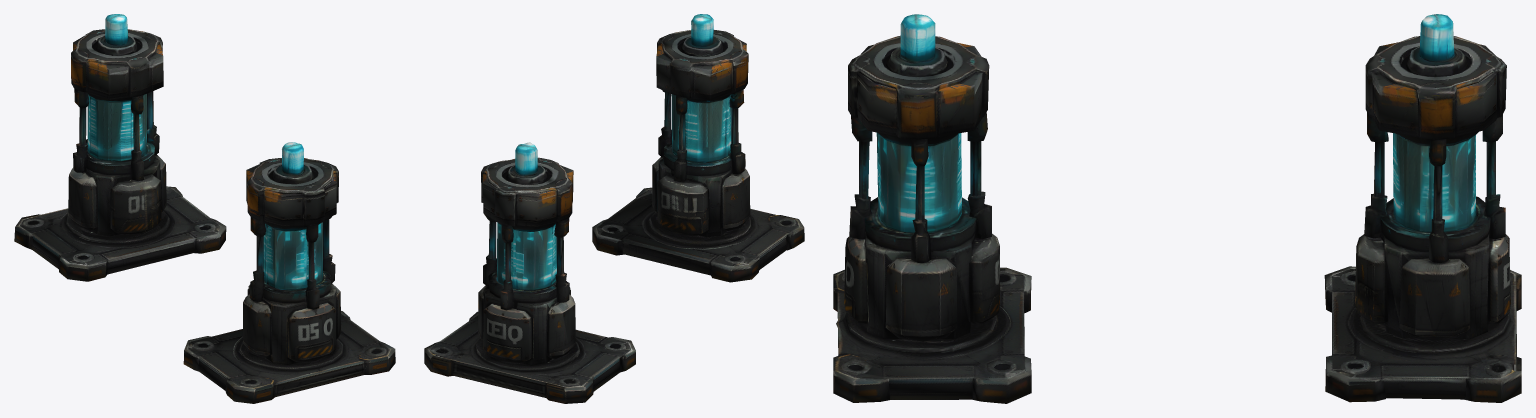
File: beacons_blue.glb
3 renders of one model, left to right at view 1: azimuth 30°, elevation 25°; view 2: azimuth 150°, elevation 25°; view 3: azimuth 270°, elevation 25°, orthographic. The views are drawn at different scales.
Parts seen in each view (by area): view 1: mesh_node; view 2: mesh_node; view 3: mesh_node.
Boxes of the visible parts, x1=… form: mesh_node: x1=14, y1=14, x2=395, y2=403; mesh_node: x1=424, y1=14, x2=804, y2=403; mesh_node: x1=833, y1=14, x2=1521, y2=403.
Size of the model in its own units: 1.51 by 2 by 3.79.
Materials: 1 (1 with a texture image).
